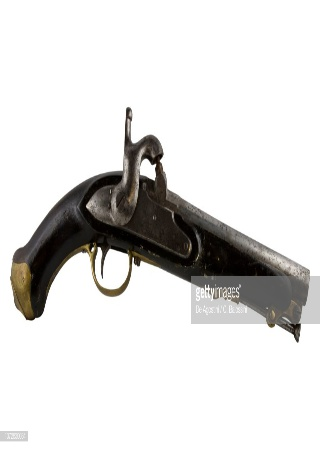handgun: (9, 103, 311, 362)
